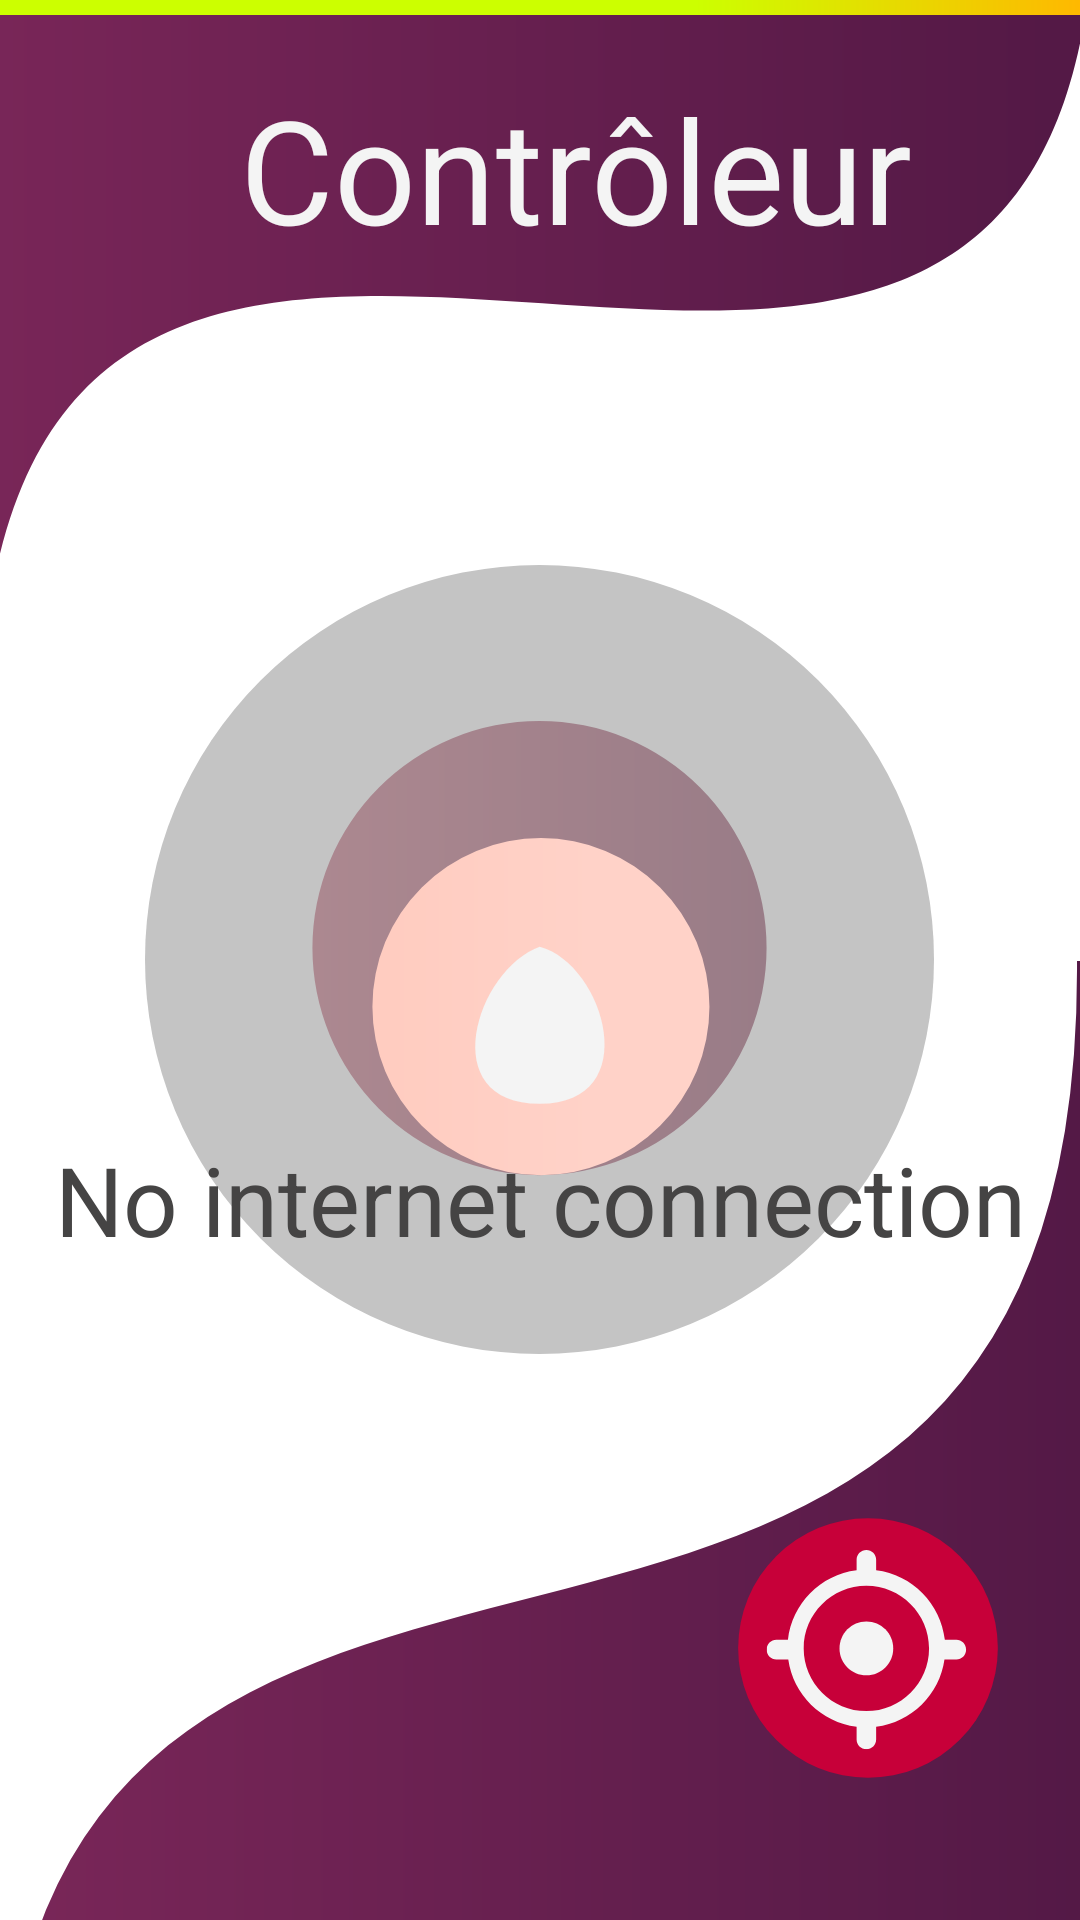

Named icons in this screenshot (1080w x 1920h) and their bounding boxes, (x1, y1, x2, y2):
Calibration button: (738, 1518, 998, 1778)
